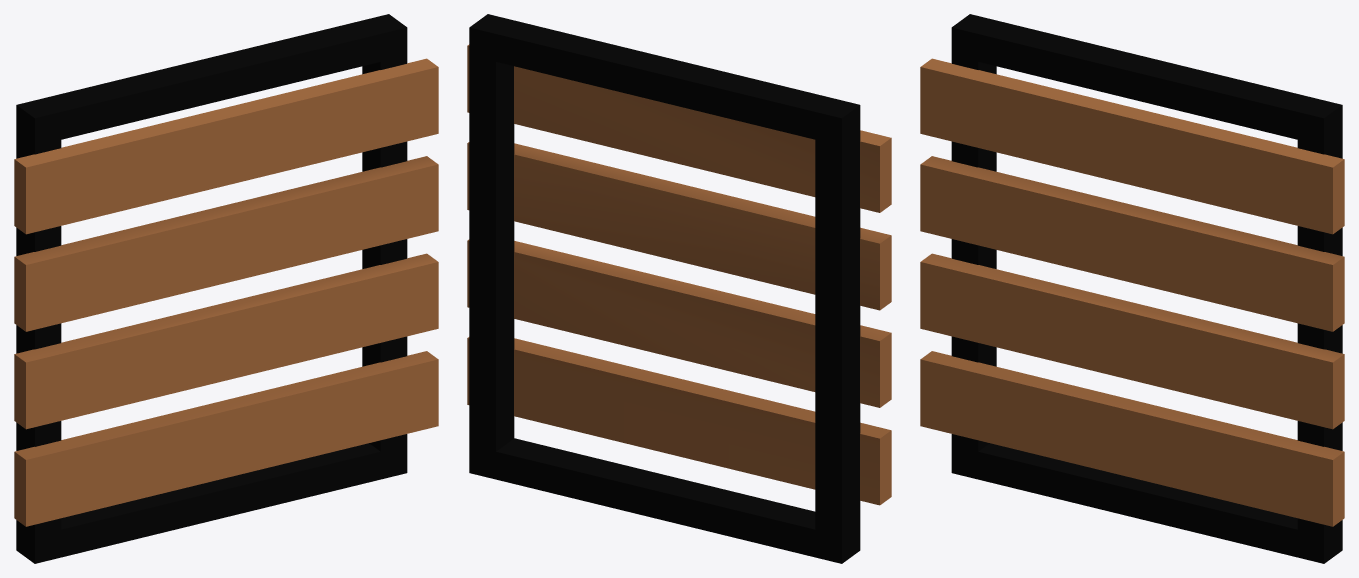
The picture shows the model from 3 angles, left to right: view 1: azimuth 30°, elevation 25°; view 2: azimuth 150°, elevation 25°; view 3: azimuth 330°, elevation 25°; orthographic projection.
Parts seen in each view (by area): view 1: body_pal_woodWarm, body_pal_picketWhite; view 2: body_pal_woodWarm, body_pal_picketWhite; view 3: body_pal_woodWarm, body_pal_picketWhite.
Part boxes in pixels (<box>): body_pal_woodWarm: <box>14,58,438,526</box>; body_pal_picketWhite: <box>16,14,407,563</box>; body_pal_woodWarm: <box>467,44,891,505</box>; body_pal_picketWhite: <box>469,14,860,563</box>; body_pal_woodWarm: <box>920,58,1344,526</box>; body_pal_picketWhite: <box>951,14,1342,563</box>.
Size of the model in its own units: 1.55 by 1.6 by 0.1925.
